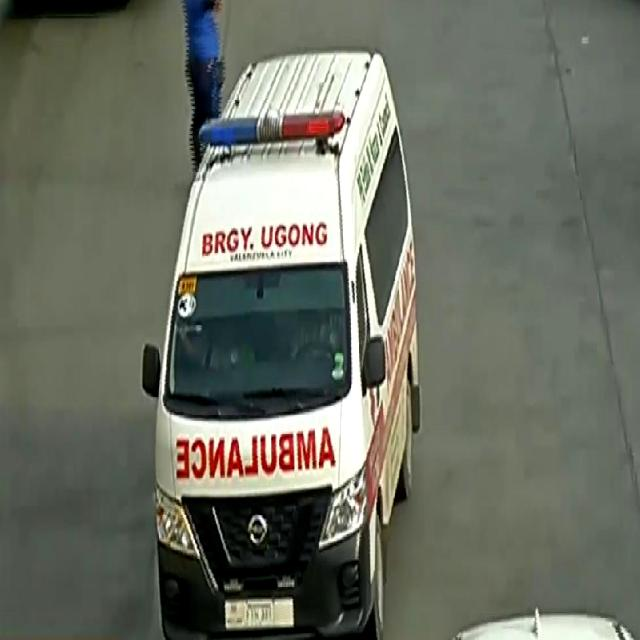emergency: (140, 47, 423, 637)
